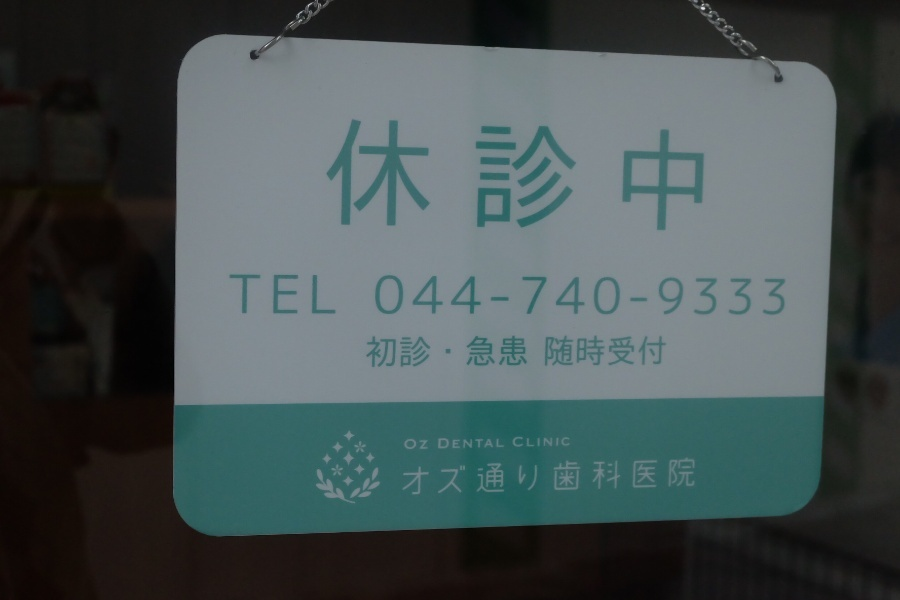text: (689, 118, 705, 238), (337, 118, 352, 238), (353, 118, 368, 238), (369, 118, 384, 238), (385, 118, 400, 238), (401, 118, 416, 238), (417, 118, 432, 238), (433, 118, 448, 238), (449, 118, 464, 238), (465, 118, 480, 238), (481, 118, 496, 238), (497, 118, 512, 238), (513, 118, 528, 238), (529, 118, 544, 238), (545, 118, 560, 238), (561, 118, 576, 238), (577, 118, 592, 238), (593, 118, 608, 238), (609, 118, 624, 238), (625, 118, 640, 238), (641, 118, 656, 238), (657, 118, 672, 238), (673, 118, 688, 238), (327, 118, 336, 238), (321, 274, 337, 314), (385, 275, 400, 316), (401, 275, 416, 316), (417, 275, 432, 316), (433, 275, 448, 316), (449, 275, 464, 316), (465, 275, 480, 316), (481, 275, 496, 316), (497, 275, 512, 316), (513, 275, 528, 316), (529, 275, 544, 316), (545, 275, 560, 316), (561, 275, 576, 316), (577, 275, 592, 316), (593, 275, 608, 316), (609, 275, 624, 316), (625, 275, 640, 316), (641, 275, 656, 316), (657, 275, 672, 316), (673, 275, 688, 316), (689, 275, 704, 316), (705, 275, 720, 316), (721, 275, 736, 316), (737, 275, 752, 316), (753, 275, 768, 316), (769, 275, 784, 316), (241, 274, 256, 314), (257, 274, 272, 314), (273, 274, 288, 314), (289, 274, 304, 314), (305, 274, 320, 314), (417, 458, 432, 497), (433, 458, 448, 497), (449, 458, 464, 497), (465, 458, 480, 497), (481, 458, 496, 497), (497, 458, 512, 497), (513, 458, 528, 497), (529, 458, 544, 497), (545, 458, 560, 497), (561, 458, 576, 497), (577, 458, 592, 497), (593, 458, 608, 497), (609, 458, 624, 497), (625, 458, 640, 497), (641, 458, 656, 497), (657, 458, 672, 497), (673, 458, 688, 497), (369, 335, 384, 368), (385, 335, 400, 368), (401, 335, 416, 368), (417, 335, 432, 368), (433, 335, 448, 368), (449, 335, 464, 368), (465, 335, 480, 368), (481, 335, 496, 368), (497, 335, 512, 368), (513, 335, 528, 368), (404, 458, 416, 497), (561, 335, 576, 366), (577, 335, 592, 366), (593, 335, 608, 366), (609, 335, 624, 366), (625, 335, 640, 366), (641, 335, 656, 366), (546, 335, 560, 366), (230, 274, 240, 314), (376, 275, 384, 316), (657, 335, 666, 366), (689, 458, 696, 497), (449, 439, 464, 449), (465, 439, 480, 449), (481, 439, 496, 449), (529, 437, 544, 447), (545, 437, 560, 447), (417, 439, 429, 451), (514, 437, 528, 447), (405, 439, 416, 451), (561, 437, 571, 447), (439, 439, 448, 449), (497, 439, 506, 449), (785, 275, 786, 316), (367, 335, 368, 368)
